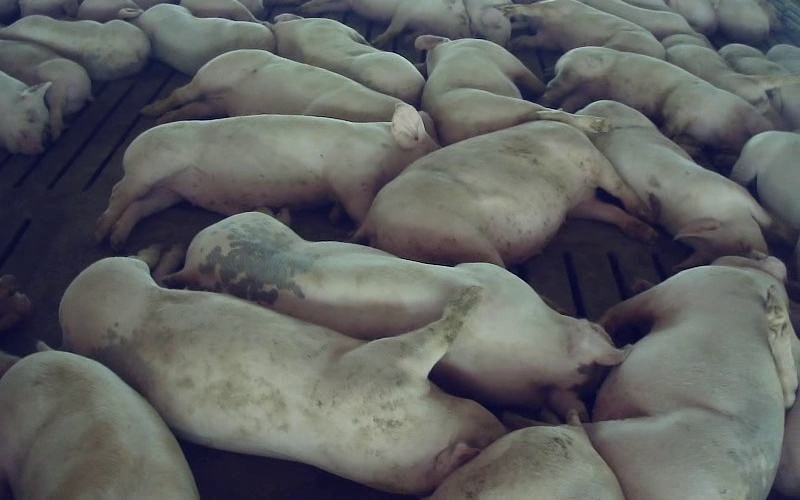pig: (170, 212, 623, 415), (96, 103, 436, 246), (586, 257, 785, 499), (355, 121, 653, 265), (580, 100, 789, 270), (543, 47, 772, 153), (415, 35, 607, 144), (143, 49, 401, 122), (273, 14, 424, 104), (119, 4, 274, 75), (662, 35, 799, 111), (506, 0, 664, 58), (731, 131, 799, 229)
